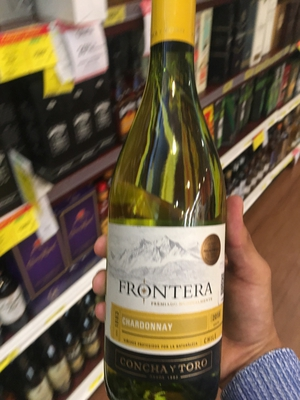frontera chardonnay: (95, 6, 238, 400)
